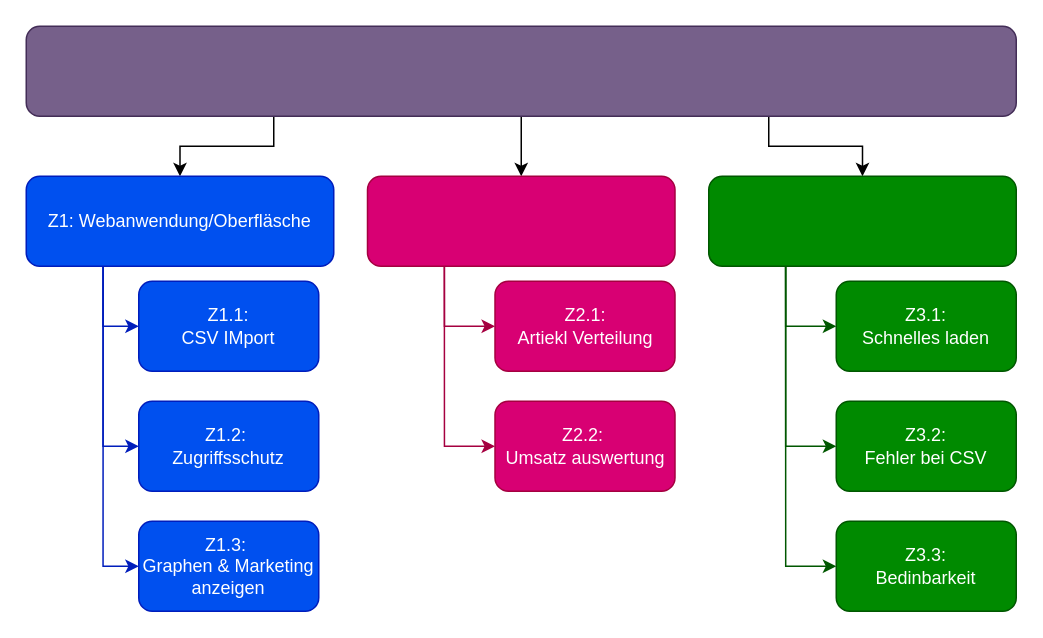
This 1043x638 diagram has some shape labels left out. The box of each missing label's shape, as (x1, y1, x2, y2) in pixels:
Moin Metrics: Warenkorbanalyse: (25, 25, 1016, 116)
Z2: Daten auswertung: (366, 175, 675, 266)
Z3: Robustheit der Anwendung: (707, 175, 1016, 266)
